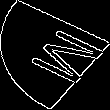M_SE: (9, 22, 101, 88)
